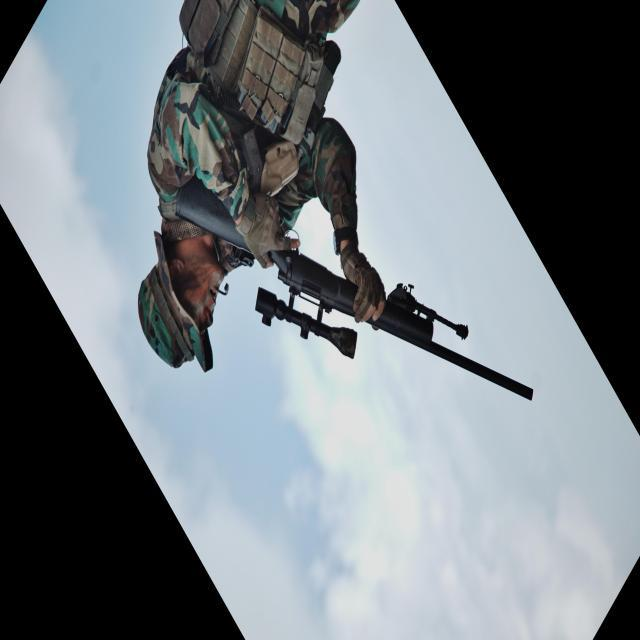weapon: (175, 175, 535, 404)
